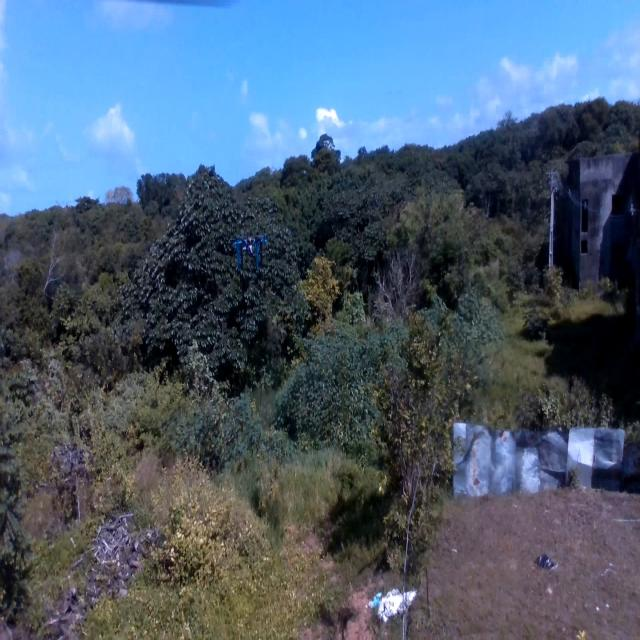-uav-: (230, 228, 270, 273)
